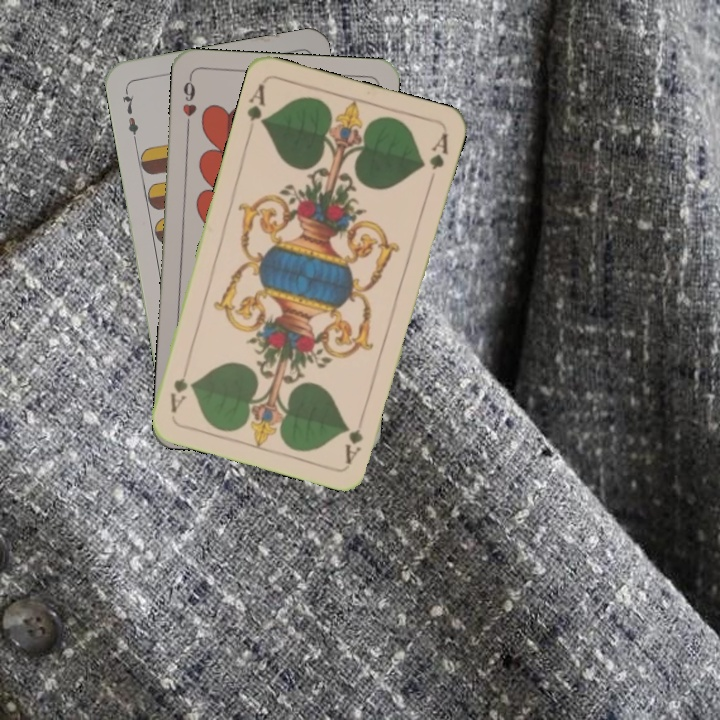E7: (118, 85, 142, 144)
GA: (243, 80, 269, 137), (341, 408, 366, 467)
H9: (178, 73, 199, 133)
